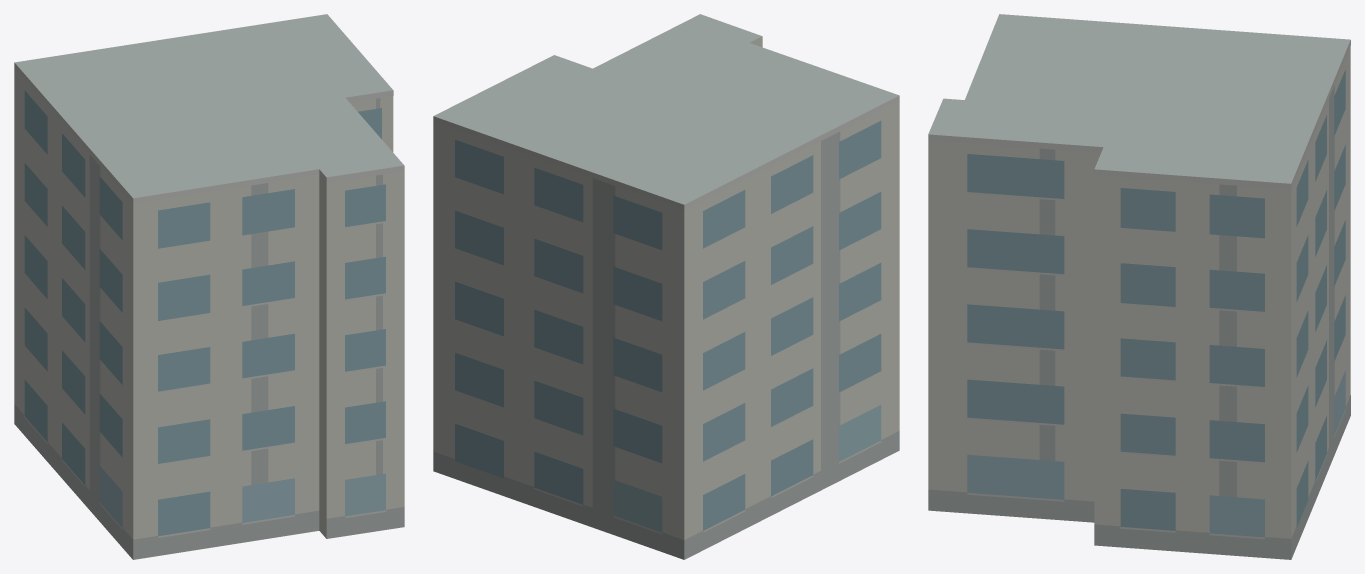
Rendered from survey-upis-32822463.glb.
3 views of the same model, side by side, from view 1: azimuth 30°, elevation 25°; view 2: azimuth 150°, elevation 25°; view 3: azimuth 270°, elevation 25° (orthographic). The views are drawn at different scales.
Visible parts, largest first — view 1: survey-upis-32822463.tmp; view 2: survey-upis-32822463.tmp; view 3: survey-upis-32822463.tmp.
Part boxes in pixels (x1=…): survey-upis-32822463.tmp: x1=14, y1=14, x2=404, y2=559; survey-upis-32822463.tmp: x1=433, y1=14, x2=899, y2=559; survey-upis-32822463.tmp: x1=928, y1=14, x2=1350, y2=559.
Bounding box in the file's own units: 14.92 × 15.4 × 15.69.
